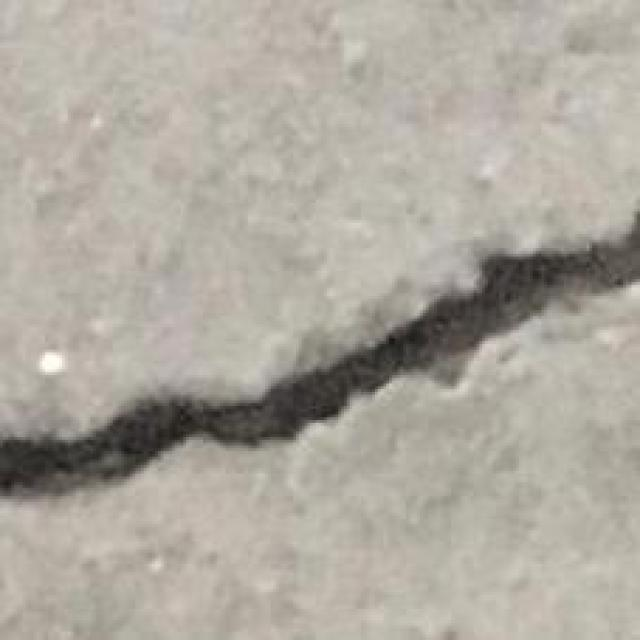diagonal crack: (0, 212, 639, 495)
